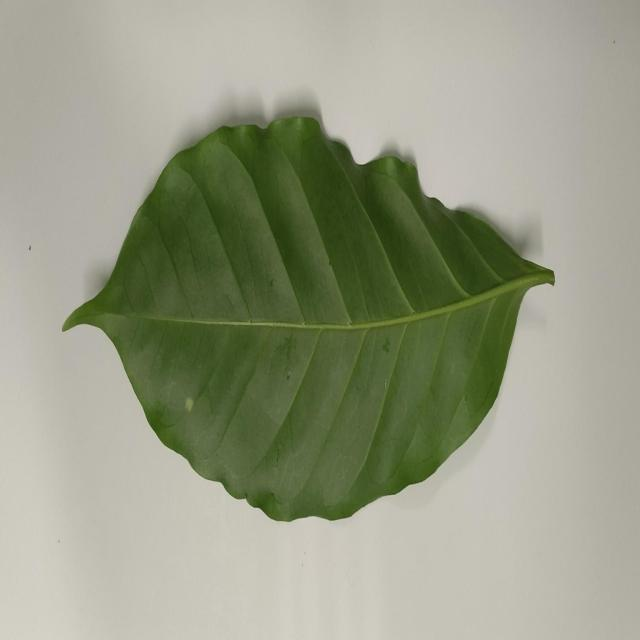Sanas: (61, 107, 556, 526)
